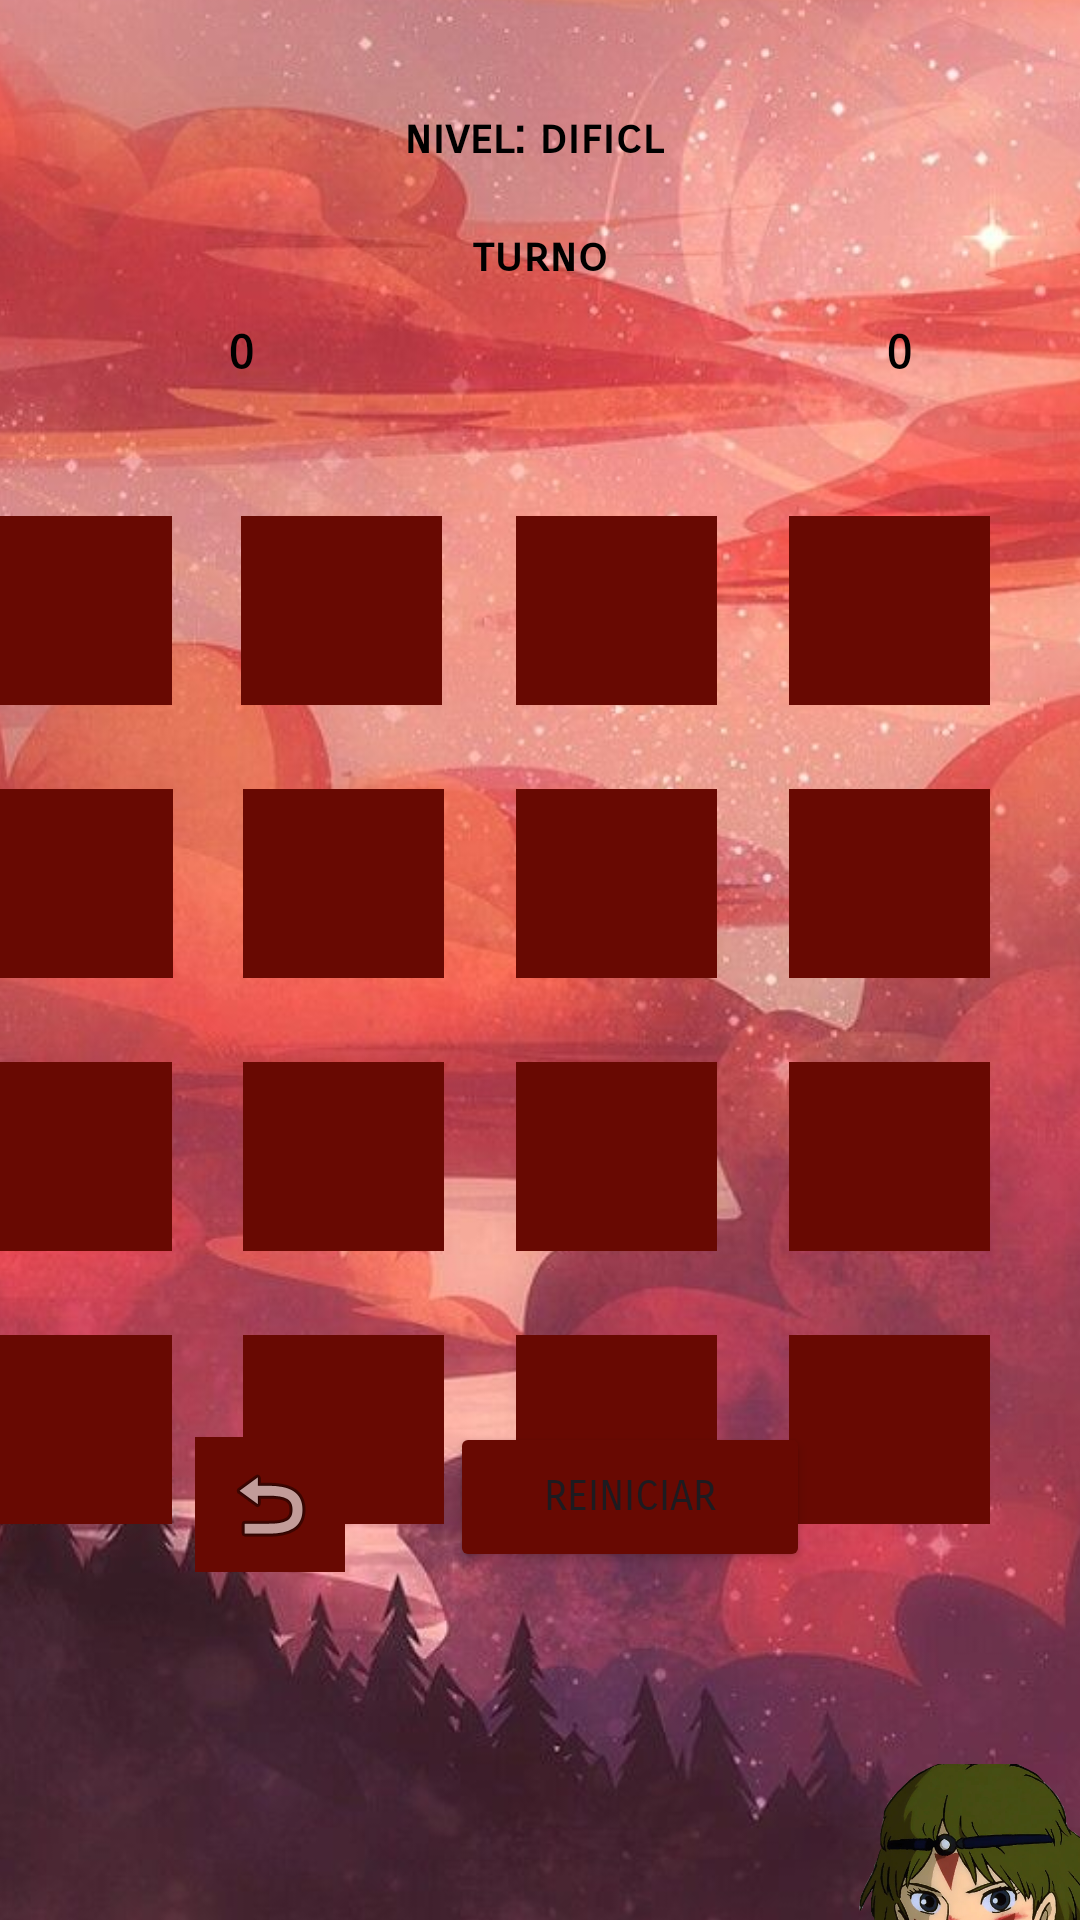

Point at icon controls on the screen. Image size 1080w x 1920h, points as [x,y].
revert: [271,1506]
